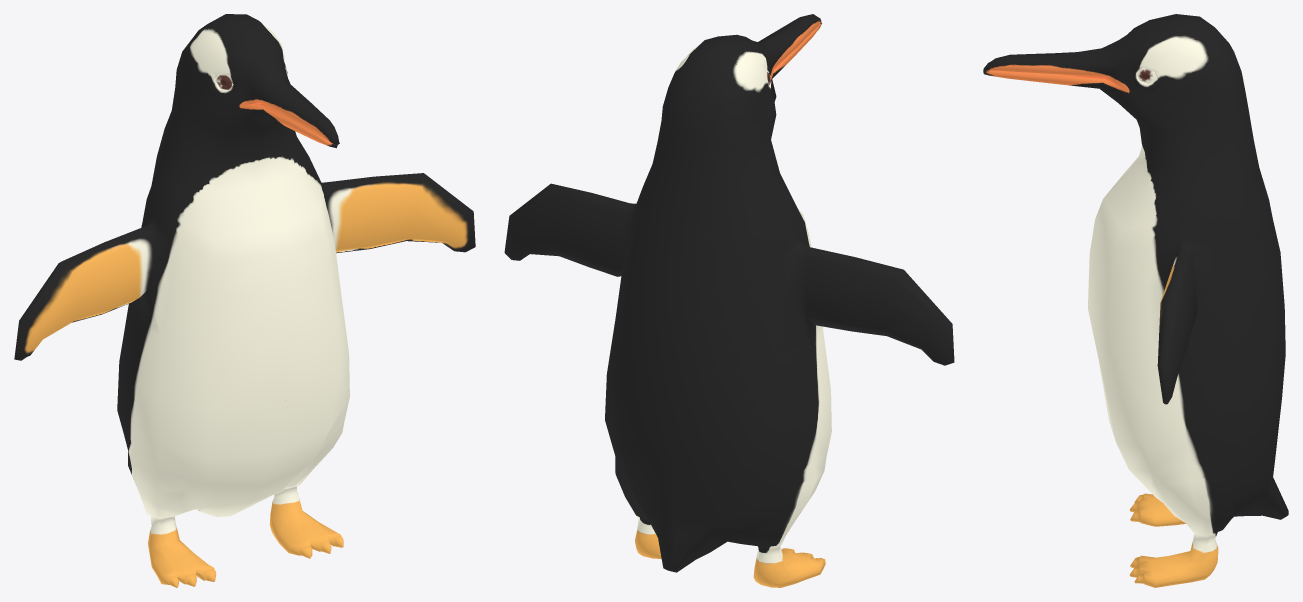
Rendered from penguin.glb.
The picture shows the model from 3 angles, left to right: view 1: azimuth 30°, elevation 25°; view 2: azimuth 150°, elevation 25°; view 3: azimuth 270°, elevation 25°; orthographic projection. The views are drawn at different scales.
Parts seen in each view (by area): view 1: penguin; view 2: penguin; view 3: penguin.
Boxes of the visible parts, x1,y1,x2,y2 form: penguin: [14, 14, 475, 587]; penguin: [504, 14, 954, 587]; penguin: [983, 14, 1288, 587].
Bounding box in the file's own units: 0.7925 × 0.8749 × 0.461.
1 material, 1 textured.
